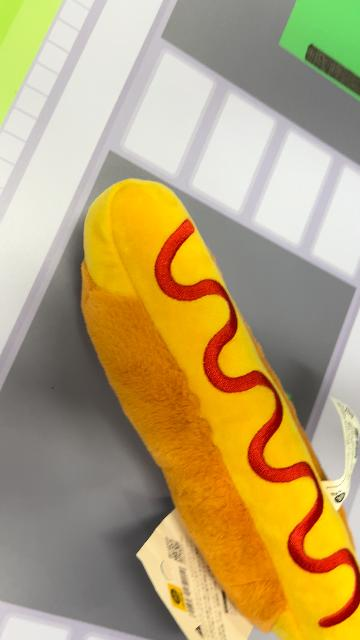hotdog: (79, 177, 358, 638)
